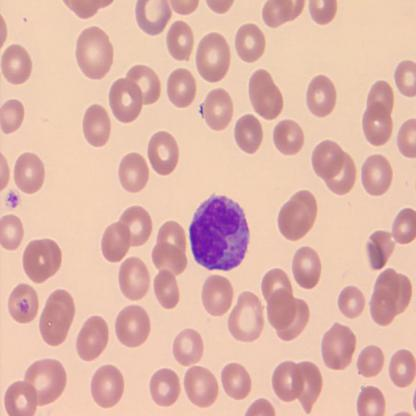Monocyte: (187, 190, 252, 272)
